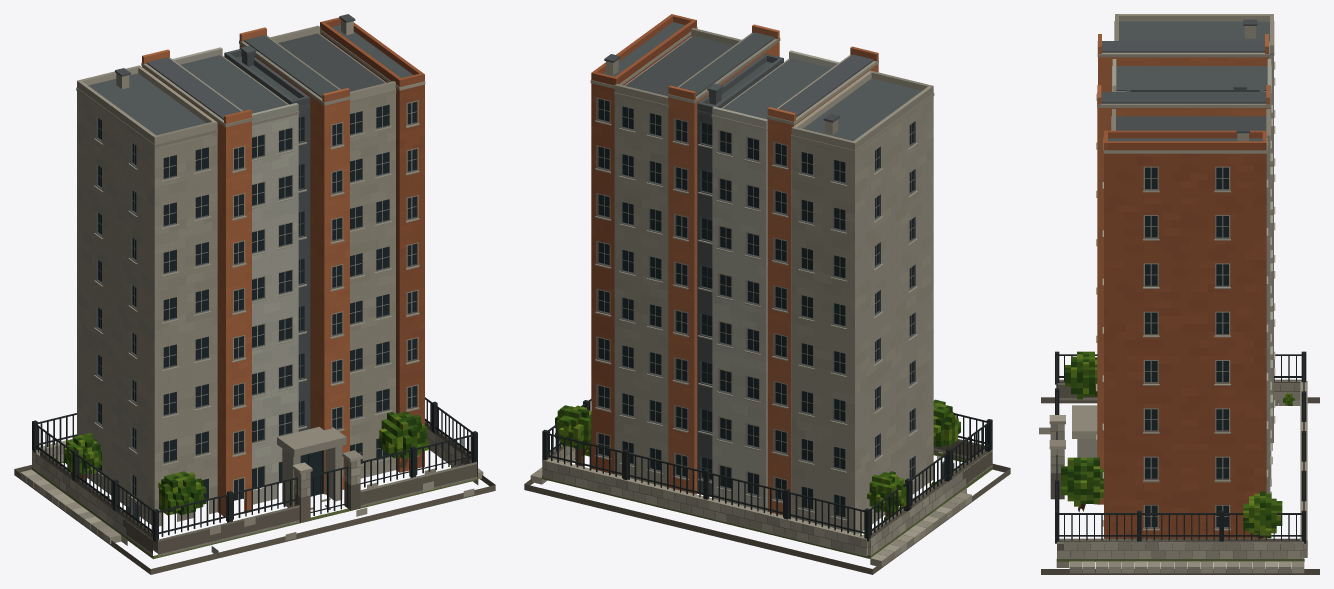
Rendered from SM_StreetFrontage_123.fbx.
3 renders of one model, left to right at view 1: azimuth 30°, elevation 25°; view 2: azimuth 150°, elevation 25°; view 3: azimuth 270°, elevation 25°, orthographic. The views are drawn at different scales.
Parts seen in each view (by area): view 1: SM_StreetFrontage_123; view 2: SM_StreetFrontage_123; view 3: SM_StreetFrontage_123.
Part boxes in pixels (x1,y1,x2,y2): SM_StreetFrontage_123: [14, 14, 495, 574]; SM_StreetFrontage_123: [524, 14, 1010, 574]; SM_StreetFrontage_123: [1039, 14, 1319, 574].
Size of the model in its own units: 32 by 21.95 by 36.32.
